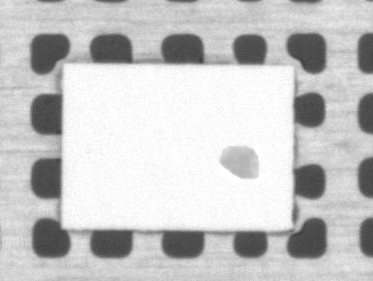DIE_INK: (285, 106, 349, 138)
